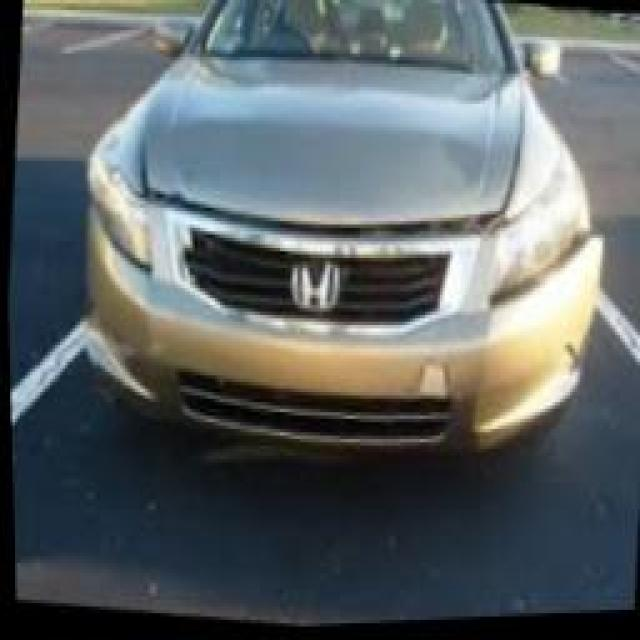Bonnet: (135, 13, 530, 246)
Bumper: (52, 168, 612, 491)
